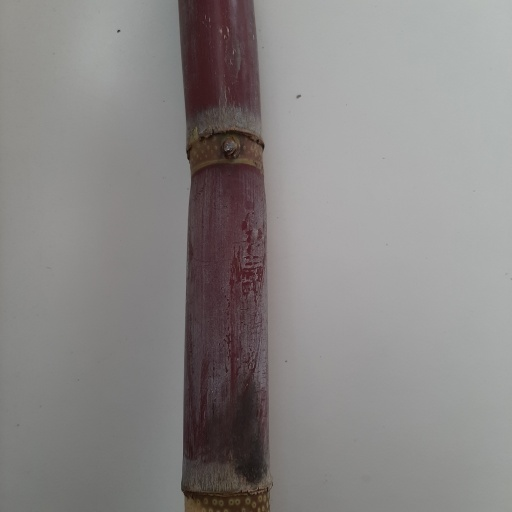Bud: (218, 134, 240, 160)
